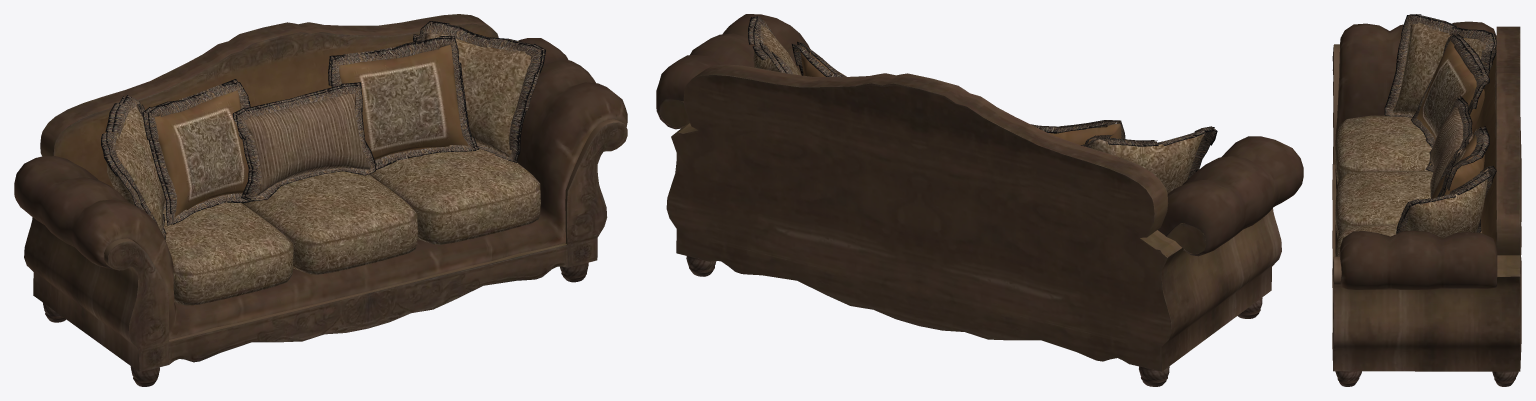
The model's file is sofa_03.glb.
3 views of the same model, side by side, from view 1: azimuth 30°, elevation 25°; view 2: azimuth 150°, elevation 25°; view 3: azimuth 270°, elevation 25° (orthographic). The views are drawn at different scales.
Visible parts, largest first — view 1: sofa_03; view 2: sofa_03; view 3: sofa_03.
Boxes of the visible parts, box(x1,y1,x2,y2) form: sofa_03: box(14, 14, 627, 386); sofa_03: box(656, 14, 1303, 386); sofa_03: box(1332, 14, 1521, 386).
Bounding box in the file's own units: 2.73 × 1.12 × 0.925.
Materials: 2 (2 with a texture image).
